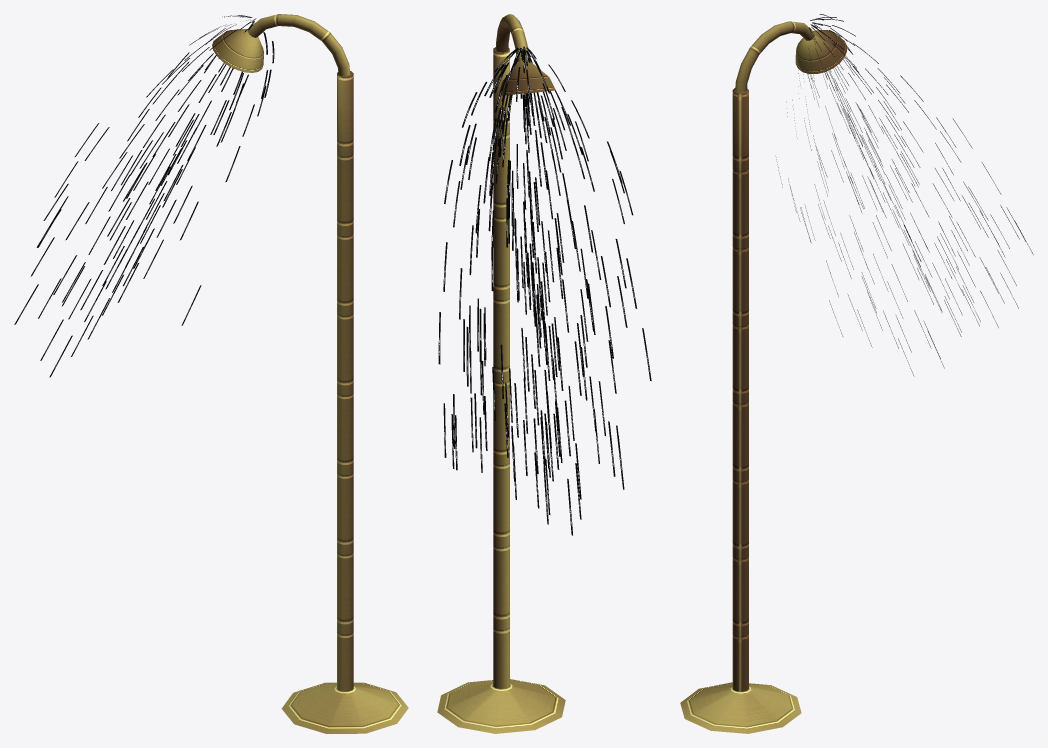
File: shower_with_water.obj
3 views of the same model, side by side, from view 1: azimuth 30°, elevation 25°; view 2: azimuth 150°, elevation 25°; view 3: azimuth 270°, elevation 25° (orthographic). The views are drawn at different scales.
Visible parts, largest first — view 1: Model001_24_Mesh10_0_0_0, Model001_25_Mesh12_0_0_0; view 2: Model001_25_Mesh12_0_0_0, Model001_24_Mesh10_0_0_0; view 3: Model001_24_Mesh10_0_0_0, Model001_25_Mesh12_0_0_0.
Part boxes in pixels (x1,y1,x2,y2): Model001_24_Mesh10_0_0_0: (212,14,408,733); Model001_25_Mesh12_0_0_0: (14,15,274,377); Model001_25_Mesh12_0_0_0: (438,46,651,535); Model001_24_Mesh10_0_0_0: (437,14,565,733); Model001_24_Mesh10_0_0_0: (680,21,846,733); Model001_25_Mesh12_0_0_0: (776,14,1033,376).
Bounding box in the file's own units: 0.5836 × 1.4 × 0.6672.
